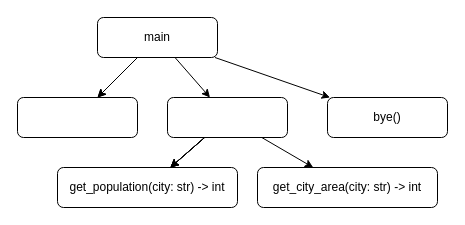
Some shapes in this 465 by 225 pixel diagram are drawn without their labels. The centre of each missing label's shape, as x and y in pixels:
"get_city_info()" goes at pixel 227 117.
"welcome()" goes at pixel 77 117.
